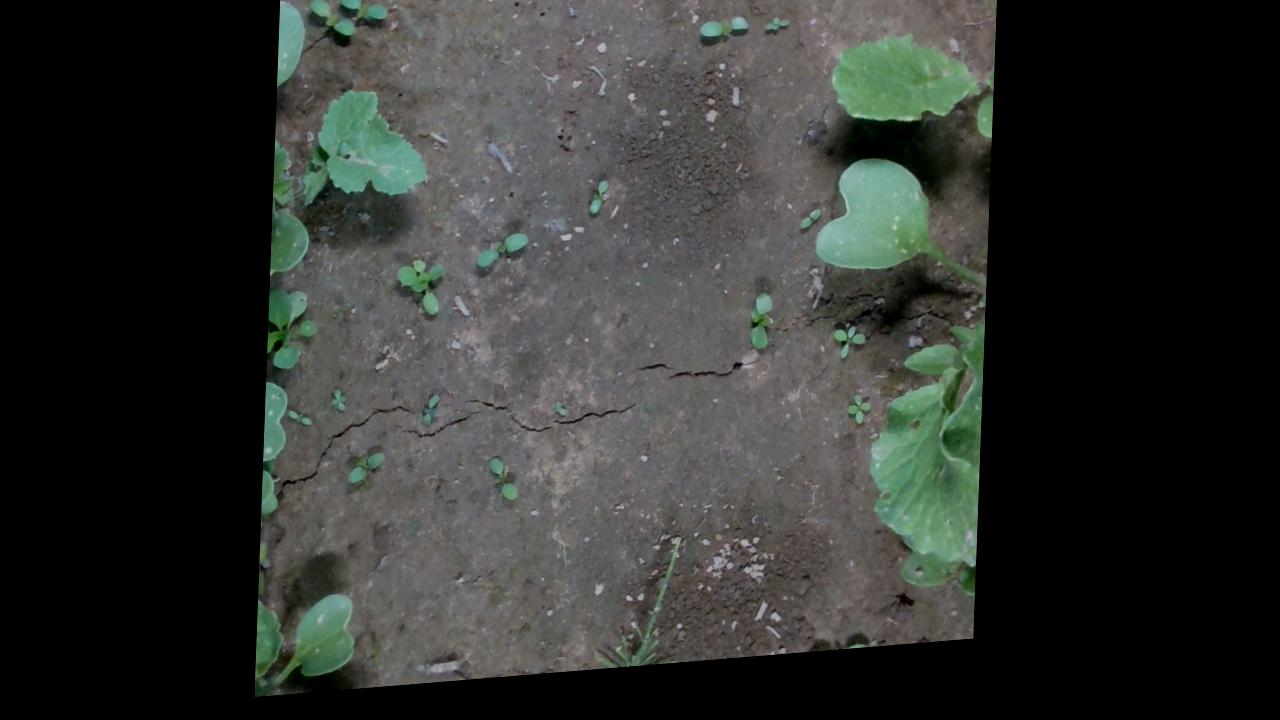weed: (477, 238, 533, 276), (491, 461, 526, 512), (751, 302, 779, 364), (836, 336, 873, 375), (697, 25, 753, 50), (352, 458, 390, 489), (852, 406, 878, 441), (590, 189, 612, 225), (427, 399, 449, 433), (290, 413, 318, 433), (800, 221, 826, 241), (764, 28, 792, 46), (334, 393, 352, 418)
